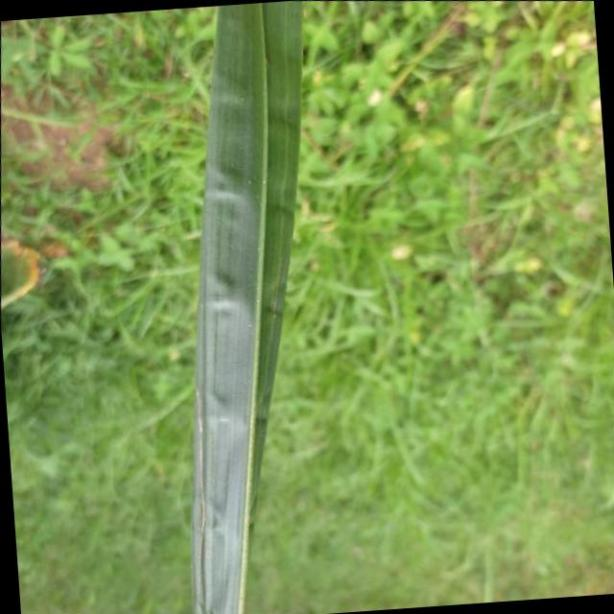Boron: (198, 3, 306, 614)
